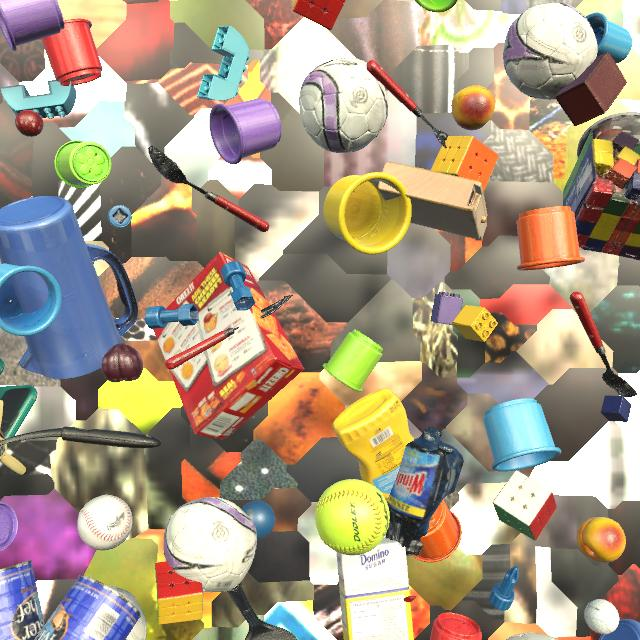ycb_002_master_chef_can: (34, 575, 141, 640), (0, 560, 45, 640)
ycb_003_cracker_box: (153, 252, 304, 439)
ycb_004_sugar_box: (336, 537, 414, 640)
ycb_006_mustard_bottle: (333, 389, 415, 500)
ycb_015_peach: (577, 517, 626, 563), (451, 85, 496, 130)
ycb_018_plum: (102, 343, 143, 383)
